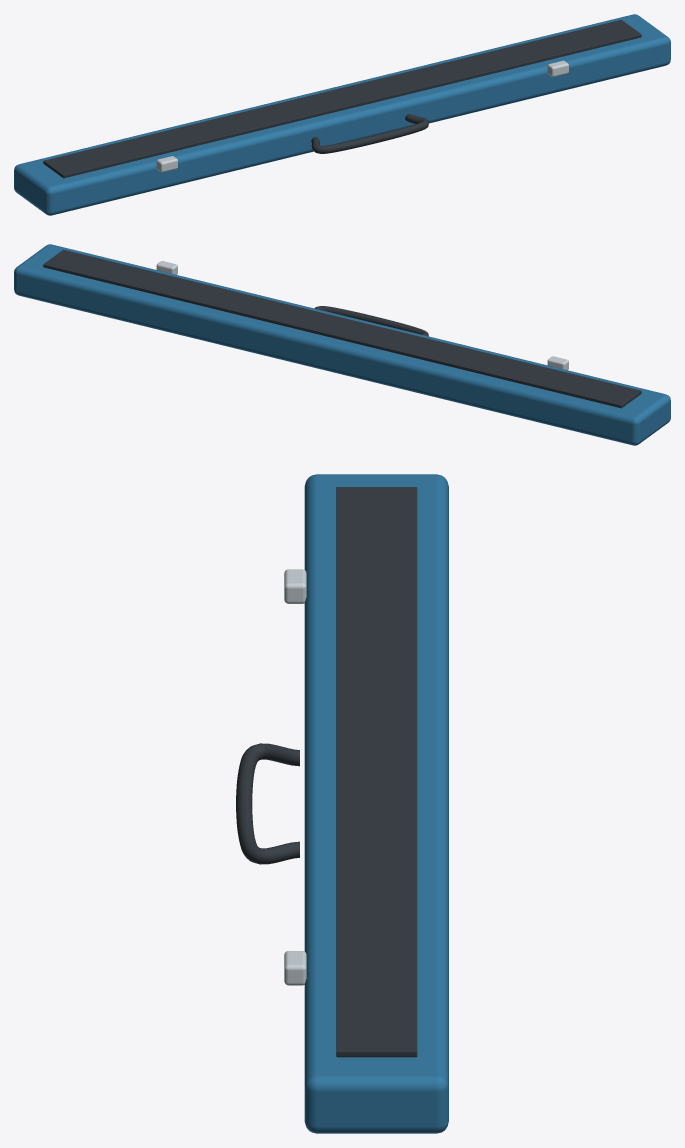
Rendered from curling-club-and-ice-maintenance-measuring-arm-case-b113fc47__31277.glb.
3 views of the same model, one above another, from view 1: azimuth 30°, elevation 25°; view 2: azimuth 150°, elevation 25°; view 3: azimuth 270°, elevation 25° (orthographic). The views are drawn at different scales.
Parts seen in each view (by area): view 1: measuring-arm-case; view 2: measuring-arm-case; view 3: measuring-arm-case.
Boxes of the visible parts, x1=… form: measuring-arm-case: x1=14, y1=14, x2=670, y2=215; measuring-arm-case: x1=14, y1=244, x2=670, y2=445; measuring-arm-case: x1=236, y1=474, x2=448, y2=1133.
Size of the model in its own units: 1.6 by 0.08 by 0.2359.
